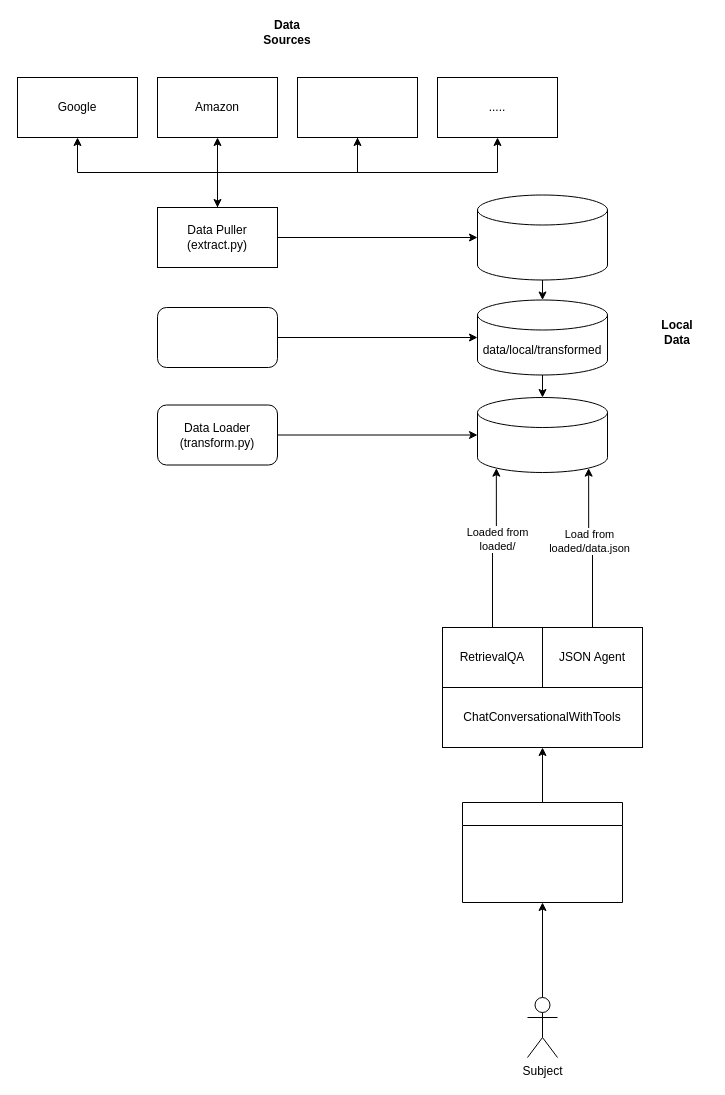
This 725x1095 diagram has some shape labels left out. Each missing label, with the box of its shape:
Chat Interface: (462, 802, 622, 902)
Data Prep (transform.py): (156, 306, 278, 368)
data/local/extracted: (476, 194, 608, 280)
data/local/loaded: (476, 396, 608, 472)
Facebook: (296, 76, 418, 138)
